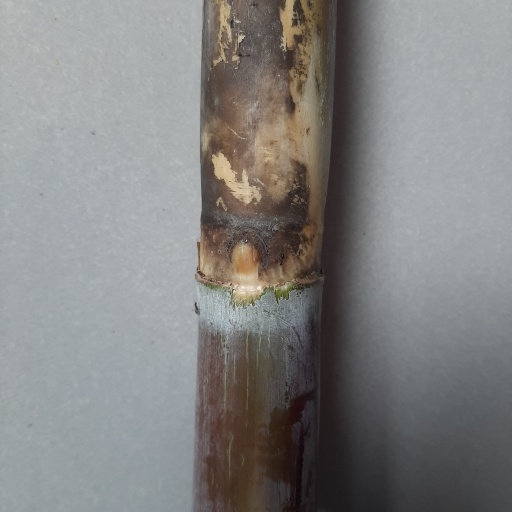Bud: (230, 238, 260, 275)
